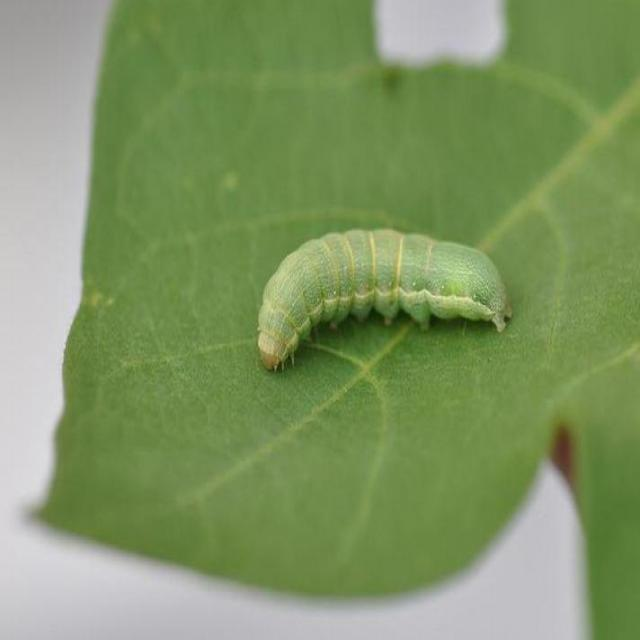BeetArmyWorm-Larva-: (244, 215, 516, 382)
